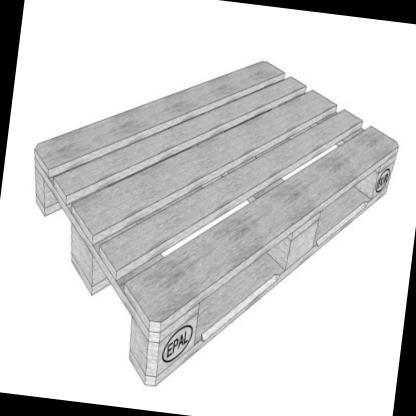BoxFace: (32, 62, 402, 391)
